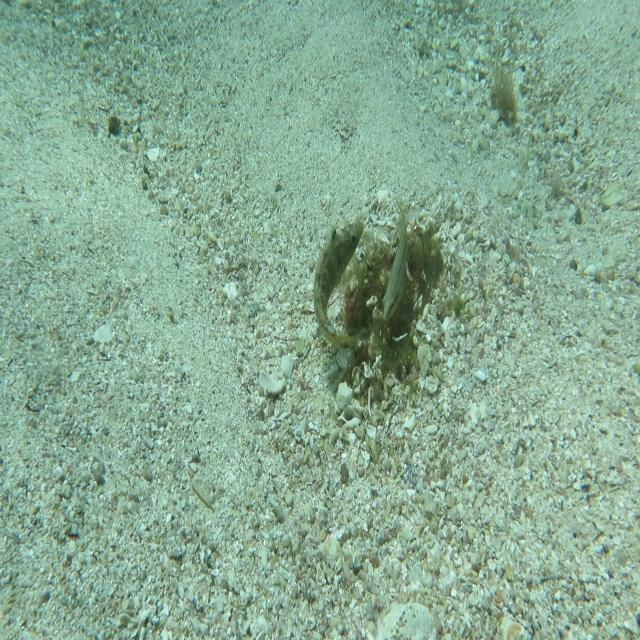BEND: (295, 220, 367, 350)
female: (380, 195, 410, 323)
nest: (330, 213, 445, 404)
